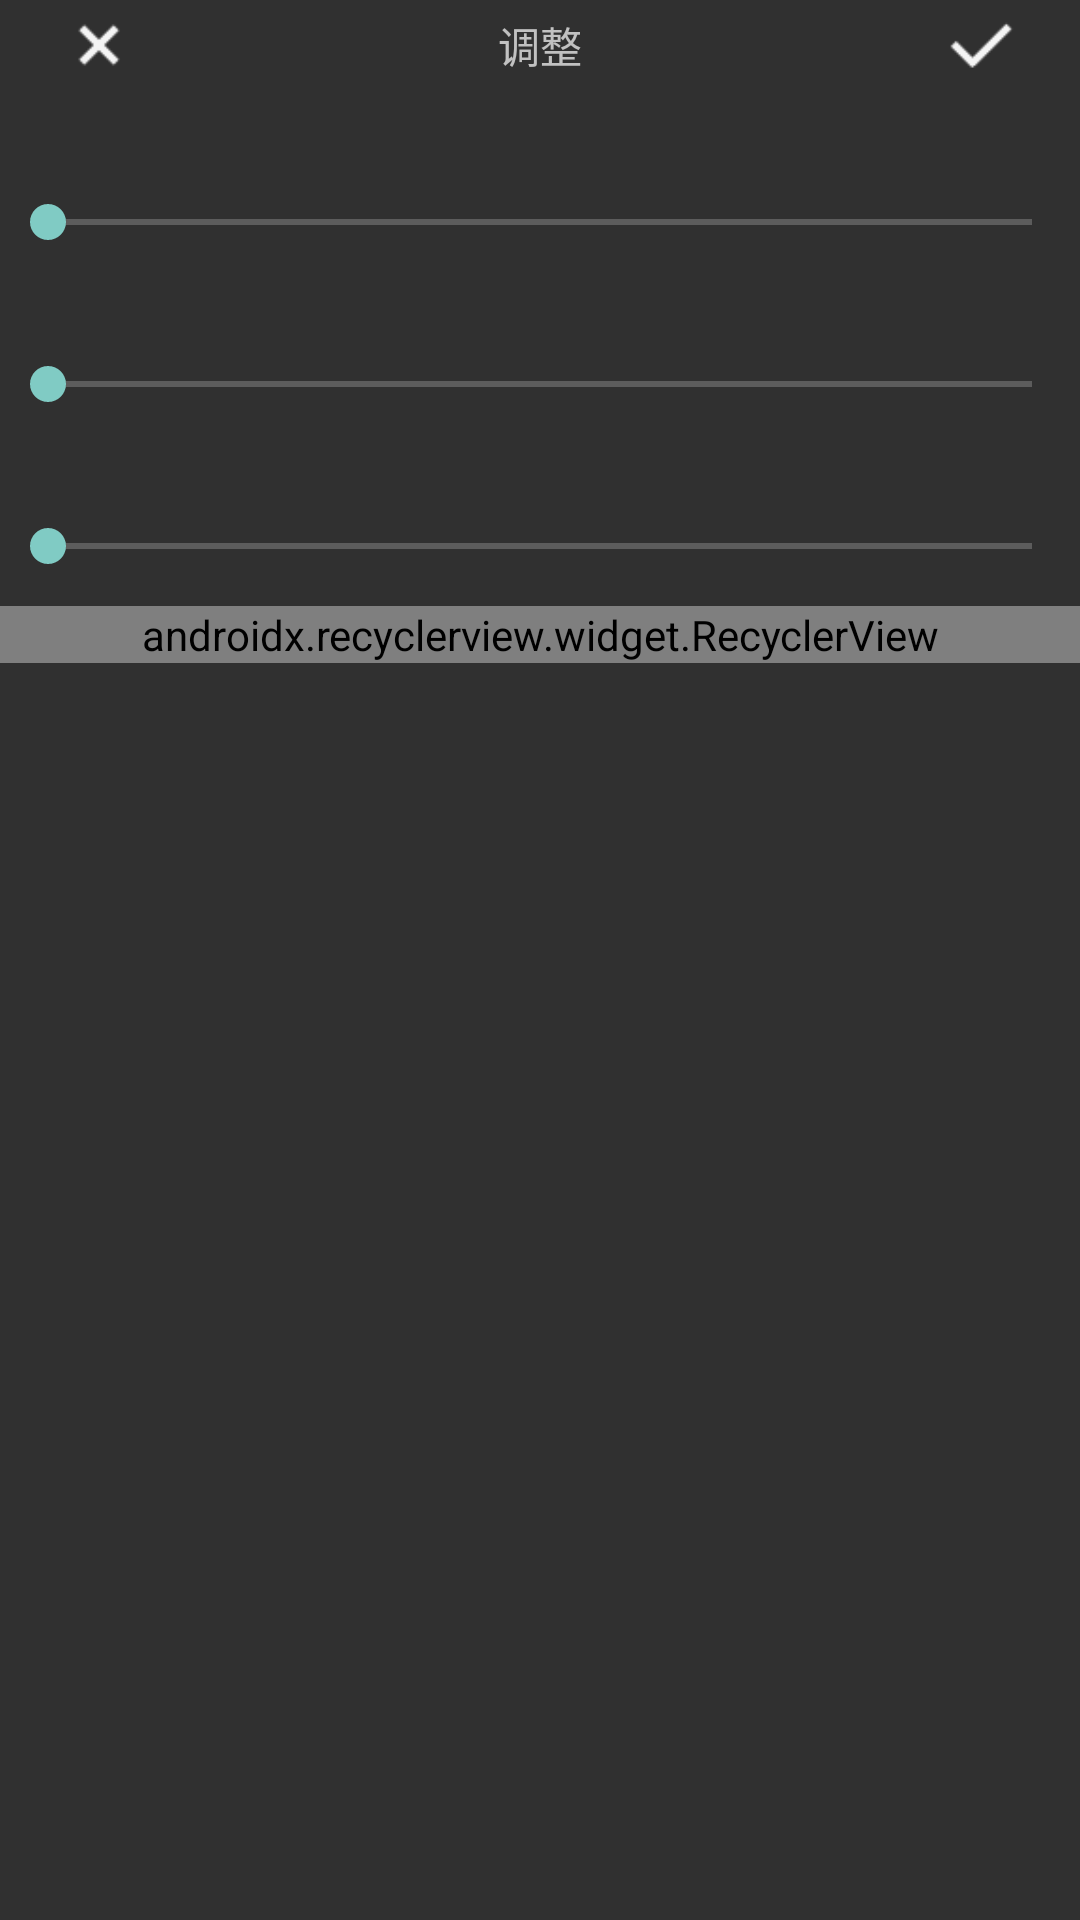

Screen size 1080 x 1920. Icon name, then its box in pixels as (x1,y1,x2,y2):
apply: (950,24,1012,68)
cancel: (78,24,120,66)
